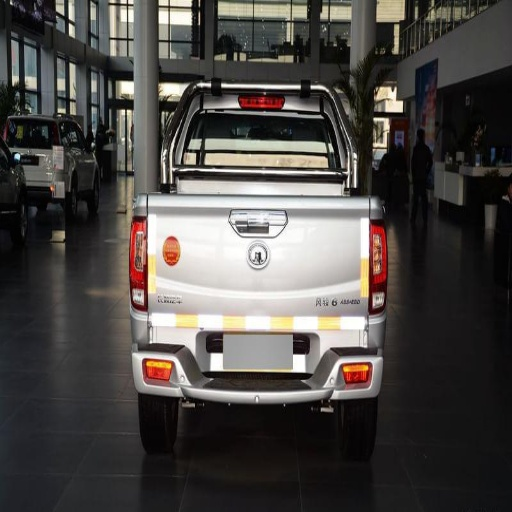back_bumper: (131, 313, 384, 404)
trunk: (150, 169, 371, 347)
